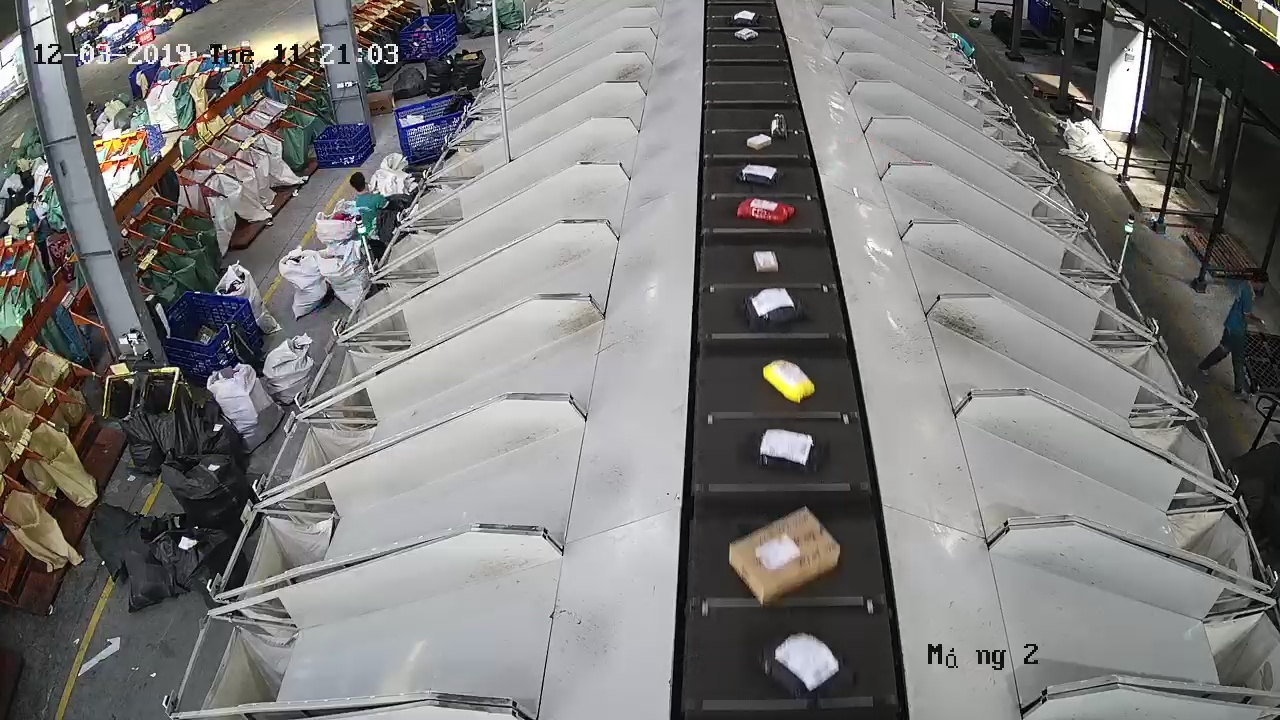parcel: (727, 504, 842, 608), (757, 630, 844, 700), (756, 427, 818, 475), (742, 286, 805, 332), (762, 358, 817, 405), (735, 197, 796, 227), (735, 162, 782, 188), (752, 250, 780, 274)
